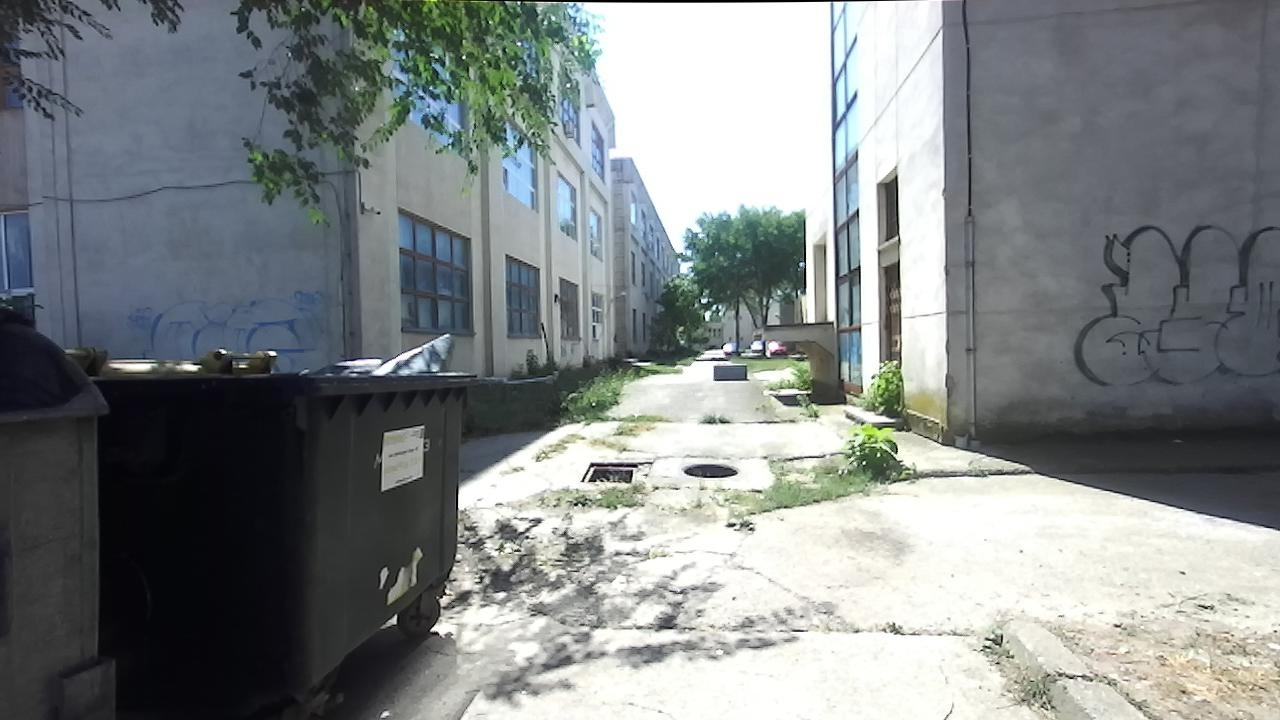drain: (574, 460, 639, 490), (678, 458, 742, 483)
